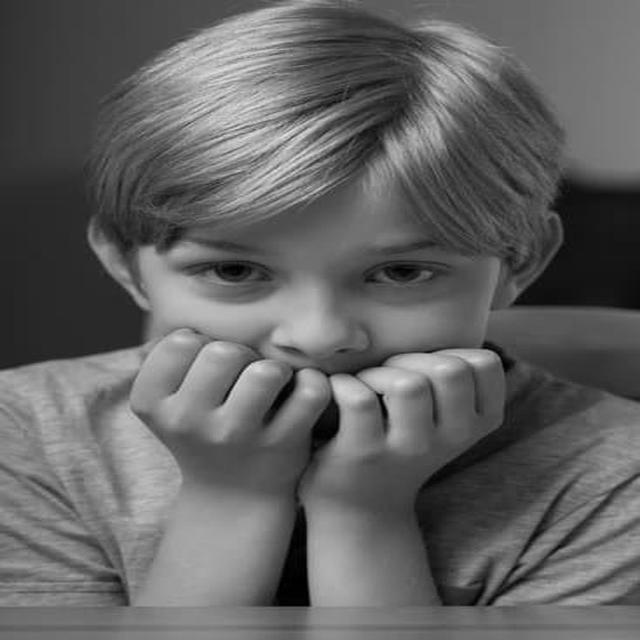Fear: (145, 191, 503, 410)
